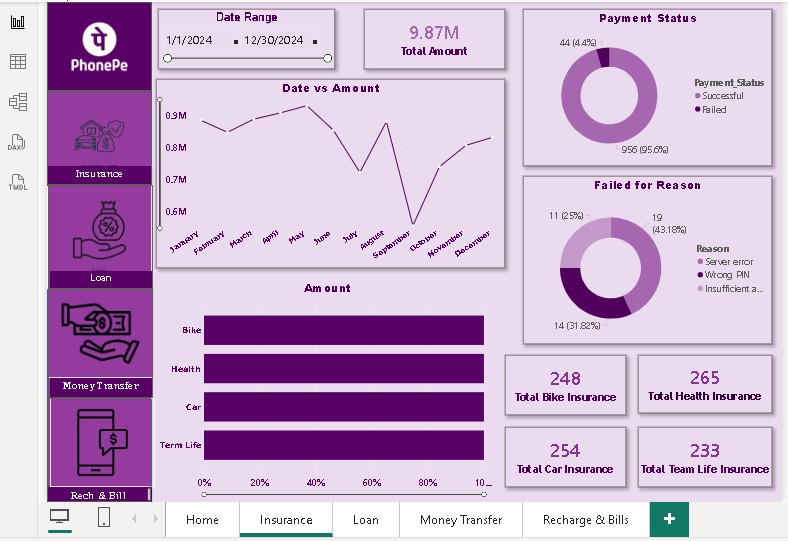

This screenshot's page, from the dashboard's own definition file:
{"tool":"powerbi","page":{"name":"Insurance","canvas":[2253,1532],"ordinal":1},"visuals":[{"type":"shape","box":[0,563.8,321.7,327.8],"z":0},{"type":"shape","box":[0,891.6,321.7,321.7],"z":1000},{"type":"shape","box":[0,0,321.7,315.6],"z":2000},{"type":"shape","box":[0,272.7,321.7,321.7],"z":3000},{"type":"shape","box":[0,1213.3,321.7,318.7],"z":4000},{"type":"image","box":[0,0,321.7,272.7],"z":5000},{"type":"image","box":[0,560.7,321.7,318.7],"z":6000},{"type":"image","box":[0,272.7,321.7,291.1],"z":7000},{"type":"image","box":[3.1,879.4,321.7,272.7],"z":8000},{"type":"image","box":[9.2,1213.3,321.7,272.7],"z":9000},{"type":"slicer","title":"Date Range","fields":{"Values":["Insurance.Date"]},"box":[340.1,21.4,542.3,183.8],"z":10000},{"type":"cardVisual","title":"Date","fields":{"Data":["Sum(Insurance.Premium)"]},"box":[971.3,21.4,432,183.8],"z":11000},{"type":"donutChart","title":"Payment Status","fields":{"Category":["Insurance.Payment_Status"],"Y":["CountNonNull(Insurance.Payment_Status)"]},"box":[1458.5,21.4,762.9,481],"z":12000},{"type":"lineChart","title":"Date vs Amount","fields":{"Category":["Insurance.Date.Variation.Date Hierarchy.Month"],"Y":["Sum(Insurance.Premium)"]},"box":[334,235.9,1069.3,579.1],"z":13000},{"type":"hundredPercentStackedBarChart","title":"Amount","fields":{"Category":["Insurance.Insurance_Type"],"Y":["Sum(Insurance.Premium)"]},"box":[340.1,851.8,1038.7,668],"z":14000},{"type":"textbox","box":[0,502.5,321.7,61.3],"z":15000},{"type":"textbox","box":[9.2,1152.1,312.5,61.3],"z":16000},{"type":"textbox","box":[0,1486,321.7,46],"z":17000},{"type":"textbox","box":[9.2,824.2,312.5,55.2],"z":18000},{"type":"actionButton","box":[0,0,321.7,272.7],"z":19000},{"type":"actionButton","box":[0,272.7,321.7,288],"z":20000},{"type":"actionButton","box":[3.1,560.7,321.7,318.7],"z":21000},{"type":"actionButton","box":[3.1,879.4,321.7,334],"z":22000},{"type":"actionButton","box":[0,1213.3,318.7,318.7],"z":23000},{"type":"donutChart","title":"Failed for Reason","fields":{"Category":["Insurance.Reason"],"Y":["CountNonNull(Insurance.Reason)"]},"box":[1458.5,533.1,762.9,514.8],"z":24000},{"type":"cardVisual","title":"Date","fields":{"Data":["CountNonNull(Insurance.Insurance_Type)"]},"box":[1810.8,1081.6,410.6,177.7],"z":25000},{"type":"cardVisual","title":"Date","fields":{"Data":["CountNonNull(Insurance.Insurance_Type)"]},"box":[1403.3,1302.2,370.7,183.8],"z":26000},{"type":"cardVisual","title":"Date","fields":{"Data":["CountNonNull(Insurance.Insurance_Type)"]},"box":[1810.8,1302.2,410.6,183.8],"z":27000},{"type":"cardVisual","title":"Date","fields":{"Data":["CountNonNull(Insurance.Insurance_Type)"]},"box":[1403.3,1081.6,370.7,183.8],"z":28000}]}

Visuals, with their boxes on the page's 2253x1532 design canvas (x1, y1, x2, y2). These are canvas units, not pixel positions in the 788x541 screenshot, which may show the page scaled, cropped or inside an application window:
shape: [x1=0, y1=564, x2=322, y2=892]
shape: [x1=0, y1=892, x2=322, y2=1213]
shape: [x1=0, y1=0, x2=322, y2=316]
shape: [x1=0, y1=273, x2=322, y2=594]
shape: [x1=0, y1=1213, x2=322, y2=1532]
image: [x1=0, y1=0, x2=322, y2=273]
image: [x1=0, y1=561, x2=322, y2=879]
image: [x1=0, y1=273, x2=322, y2=564]
image: [x1=3, y1=879, x2=325, y2=1152]
image: [x1=9, y1=1213, x2=331, y2=1486]
"Date Range" slicer: [x1=340, y1=21, x2=882, y2=205]
"Date" cardVisual: [x1=971, y1=21, x2=1403, y2=205]
"Payment Status" donutChart: [x1=1458, y1=21, x2=2221, y2=502]
"Date vs Amount" lineChart: [x1=334, y1=236, x2=1403, y2=815]
"Amount" hundredPercentStackedBarChart: [x1=340, y1=852, x2=1379, y2=1520]
textbox: [x1=0, y1=502, x2=322, y2=564]
textbox: [x1=9, y1=1152, x2=322, y2=1213]
textbox: [x1=0, y1=1486, x2=322, y2=1532]
textbox: [x1=9, y1=824, x2=322, y2=879]
actionButton: [x1=0, y1=0, x2=322, y2=273]
actionButton: [x1=0, y1=273, x2=322, y2=561]
actionButton: [x1=3, y1=561, x2=325, y2=879]
actionButton: [x1=3, y1=879, x2=325, y2=1213]
actionButton: [x1=0, y1=1213, x2=319, y2=1532]
"Failed for Reason" donutChart: [x1=1458, y1=533, x2=2221, y2=1048]
"Date" cardVisual: [x1=1811, y1=1082, x2=2221, y2=1259]
"Date" cardVisual: [x1=1403, y1=1302, x2=1774, y2=1486]
"Date" cardVisual: [x1=1811, y1=1302, x2=2221, y2=1486]
"Date" cardVisual: [x1=1403, y1=1082, x2=1774, y2=1265]
